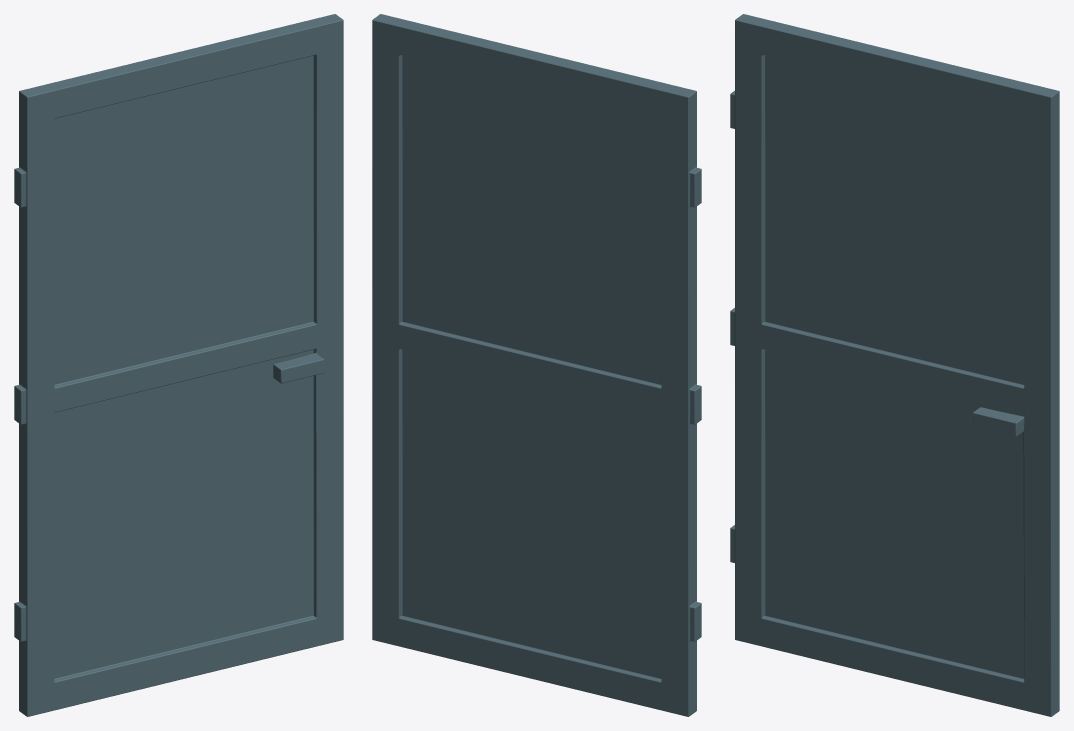
The model's file is SM_Door_Panel.glb.
The picture shows the model from 3 angles, left to right: view 1: azimuth 30°, elevation 25°; view 2: azimuth 150°, elevation 25°; view 3: azimuth 330°, elevation 25°; orthographic projection.
Parts seen in each view (by area): view 1: SM_Door_Panel; view 2: SM_Door_Panel; view 3: SM_Door_Panel.
Part boxes in pixels (box(x1,y1,x2,y2)): SM_Door_Panel: box(14, 14, 343, 716); SM_Door_Panel: box(372, 14, 701, 716); SM_Door_Panel: box(730, 14, 1059, 716).
Size of the model in its own units: 1.18 by 2.17 by 0.105.
